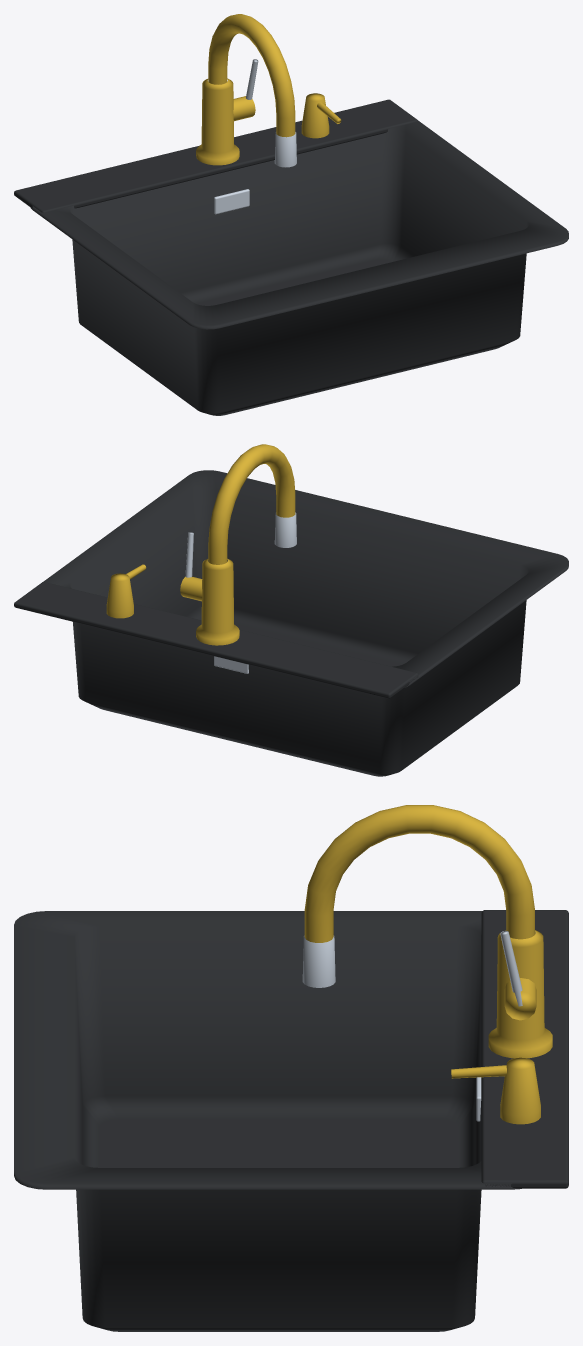
File: obj_sink_undermount_550.glb
The picture shows the model from 3 angles, top to bottom: view 1: azimuth 30°, elevation 25°; view 2: azimuth 150°, elevation 25°; view 3: azimuth 270°, elevation 25°; orthographic projection. The views are drawn at different scales.
Parts seen in each view (by area): view 1: obj_sink_undermount_550; view 2: obj_sink_undermount_550; view 3: obj_sink_undermount_550.
Boxes of the visible parts, x1,y1,x2,y2 form: obj_sink_undermount_550: (14,14,568,415); obj_sink_undermount_550: (14,444,568,776); obj_sink_undermount_550: (14,805,568,1331).
Bounding box in the file's own units: 0.56 × 0.4058 × 0.482.
